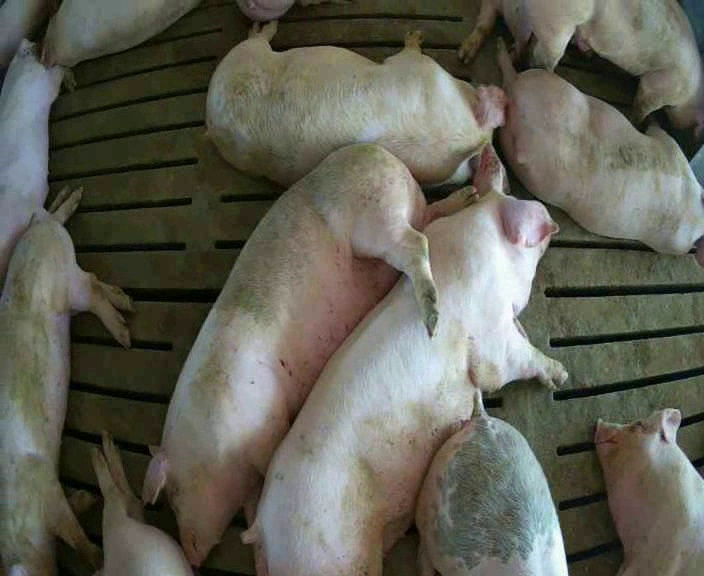pig: (145, 144, 476, 565), (240, 147, 566, 573), (206, 22, 504, 183), (0, 215, 130, 573), (498, 42, 703, 266), (416, 390, 566, 574), (523, 1, 703, 135), (0, 41, 81, 287), (595, 408, 703, 574), (92, 432, 191, 574), (42, 1, 197, 66)
